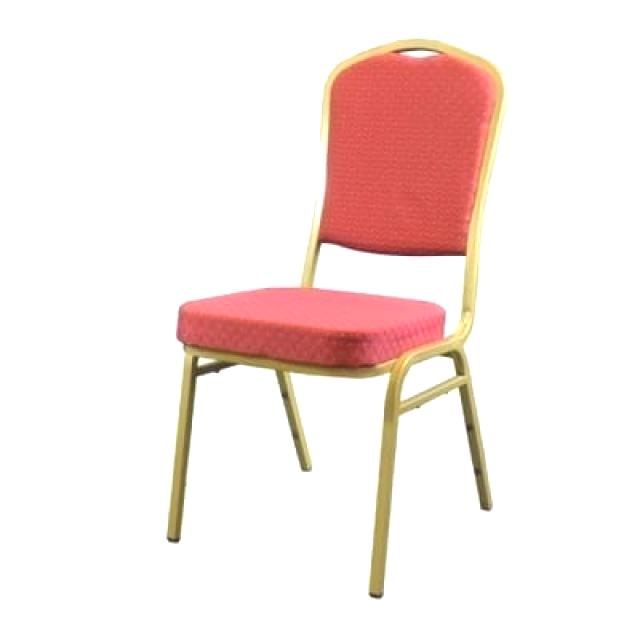Chair: (166, 38, 499, 603)
